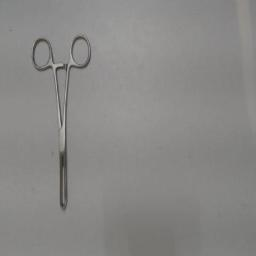Allis Tissue Forceps: (28, 31, 98, 221)
